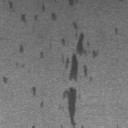red iron: (62, 22, 98, 128), (20, 5, 57, 23), (32, 86, 36, 96), (68, 0, 74, 6), (8, 2, 13, 9), (2, 77, 7, 83), (114, 28, 118, 34), (19, 46, 23, 52), (40, 102, 44, 107), (40, 52, 43, 58)
